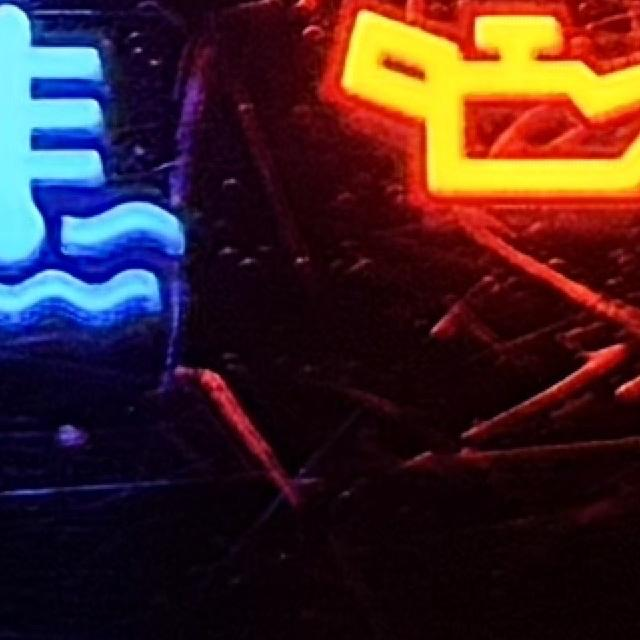High Engine Temperature: (1, 1, 189, 322)
Low Oil Pressure Issue: (333, 1, 640, 205)
